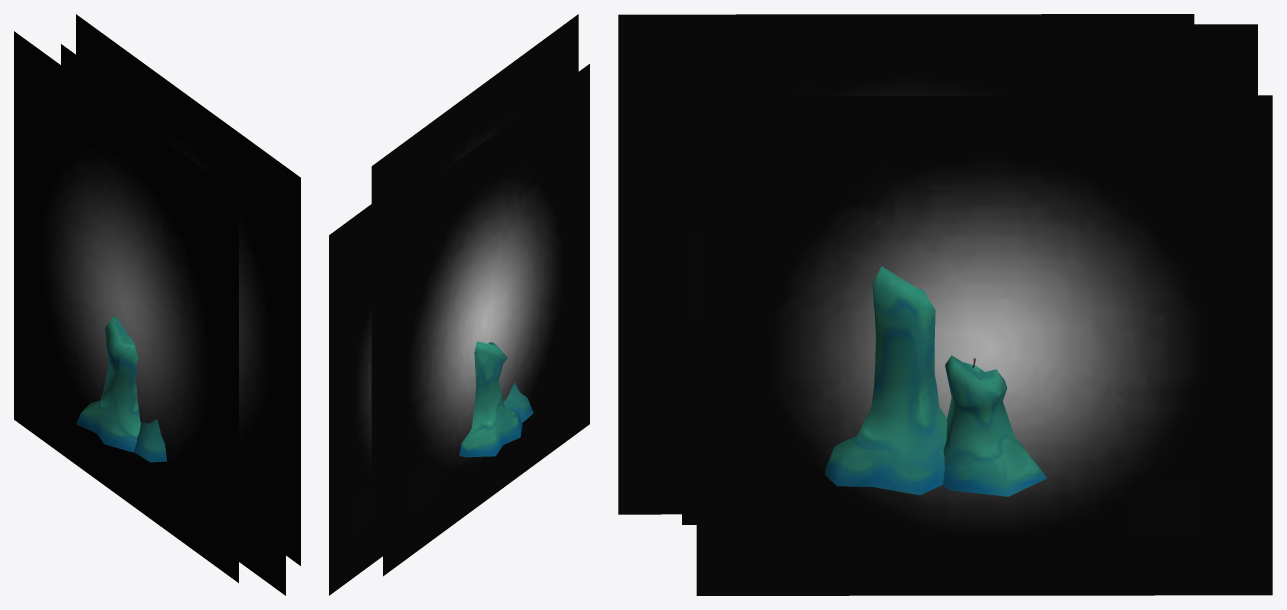
3 renders of one model, left to right at view 1: azimuth 30°, elevation 25°; view 2: azimuth 150°, elevation 25°; view 3: azimuth 270°, elevation 25°, orthographic. The views are drawn at different scales.
Size of the model in its own units: 0.4867 by 1.6 by 1.66.
3 materials, 3 textured.
